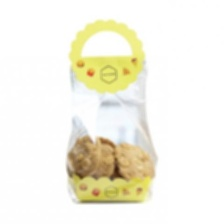snack: (59, 12, 163, 208)
